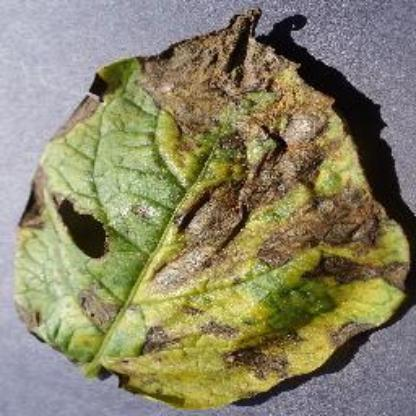Early-Blight: (15, 7, 415, 409)
